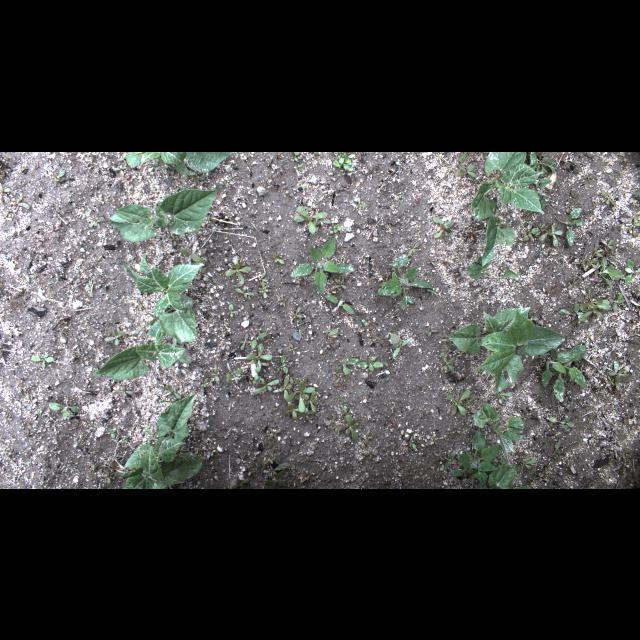crop: (467, 152, 558, 280), (450, 304, 568, 384), (117, 392, 203, 486), (121, 252, 202, 344), (106, 185, 222, 245), (436, 434, 534, 488), (94, 340, 194, 380), (122, 152, 238, 178), (474, 401, 524, 453)
weed: (284, 234, 356, 296), (375, 253, 437, 311), (537, 342, 589, 402), (554, 287, 624, 325), (322, 400, 362, 446), (283, 375, 319, 423), (252, 356, 290, 400), (291, 200, 335, 234), (581, 251, 623, 285), (218, 252, 256, 288), (601, 356, 631, 396), (260, 456, 298, 486), (556, 204, 584, 242), (446, 385, 476, 417), (428, 212, 460, 240), (243, 347, 274, 375), (286, 305, 312, 337), (335, 354, 359, 386), (358, 429, 384, 458), (48, 400, 82, 422), (390, 329, 416, 357), (327, 291, 357, 315), (25, 350, 57, 372), (360, 354, 394, 374), (518, 218, 544, 244), (454, 151, 478, 179), (103, 324, 129, 348), (80, 212, 104, 238), (544, 413, 576, 432), (490, 388, 520, 408), (178, 243, 206, 264), (238, 331, 270, 349), (540, 222, 562, 248), (330, 152, 358, 172), (282, 177, 308, 197), (620, 256, 636, 288), (256, 270, 274, 298), (320, 323, 346, 342), (436, 353, 458, 375), (162, 383, 186, 403), (74, 277, 98, 297), (620, 212, 638, 238), (112, 156, 134, 177), (224, 359, 240, 387), (49, 313, 71, 333), (323, 216, 347, 234), (284, 338, 310, 354), (13, 190, 31, 213), (288, 153, 308, 173), (419, 322, 439, 342), (422, 430, 442, 450), (43, 220, 63, 240), (208, 362, 222, 388), (592, 238, 618, 252), (352, 194, 372, 212), (596, 186, 616, 204), (106, 426, 126, 444), (98, 466, 118, 484), (26, 404, 46, 422), (48, 168, 68, 186), (266, 249, 288, 265), (231, 284, 253, 300), (408, 240, 428, 256), (219, 172, 239, 188), (422, 252, 442, 268), (382, 412, 402, 428), (223, 303, 245, 317), (561, 274, 583, 288), (405, 432, 421, 450), (111, 388, 139, 398), (447, 422, 463, 438), (332, 278, 350, 292), (278, 290, 290, 310), (520, 458, 540, 470), (414, 407, 434, 419), (550, 438, 564, 454), (392, 189, 406, 205), (198, 372, 212, 388), (269, 426, 283, 442), (1, 180, 11, 200), (361, 314, 374, 328), (18, 458, 36, 468), (630, 185, 638, 201)
